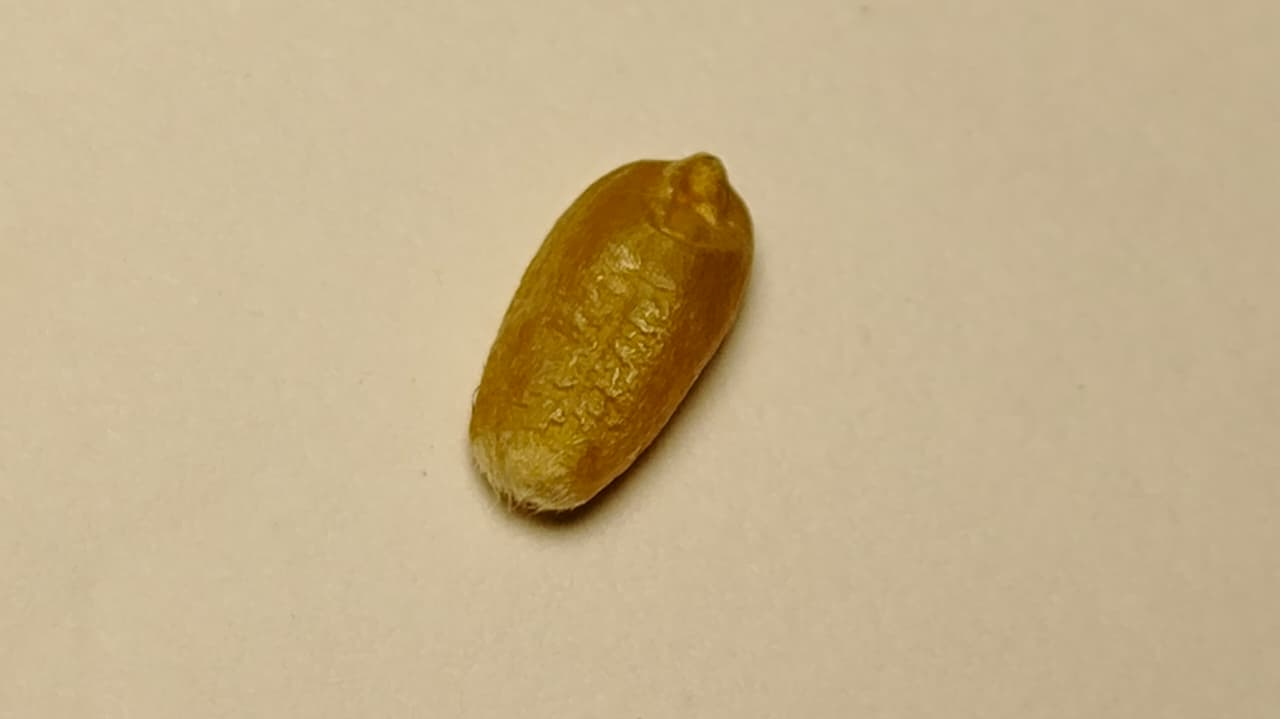healthy: (469, 161, 752, 516)
